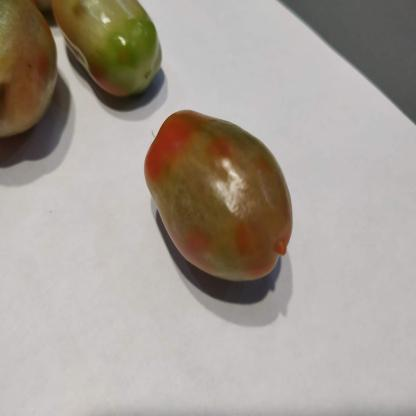T_F_R: (145, 111, 294, 281), (52, 1, 162, 96)
